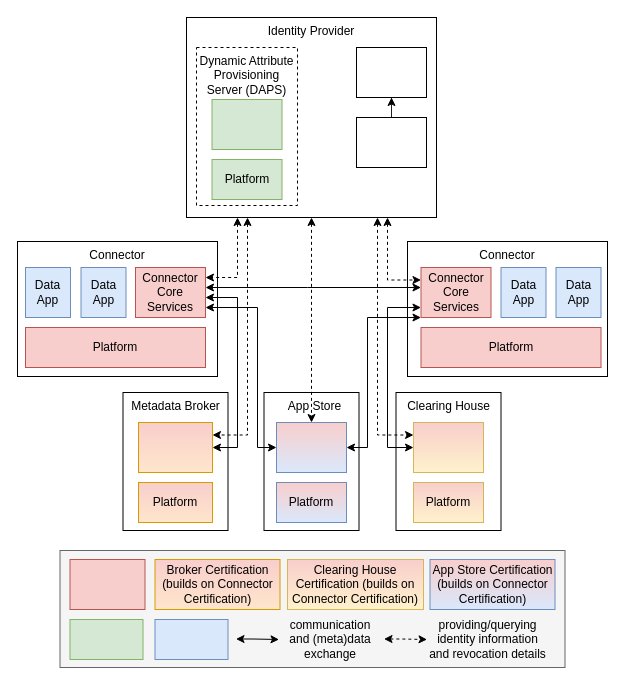
This 625x685 diagram has some shape labels left out. Here are the shapes that lost their labels. From the top down, the centre of each, then its label:
At point (391, 72): "OCSP Provider".
At point (246, 124): "DAPS Service".
At point (391, 142): "CA".
At point (175, 447): "Metadata Broker Services".
At point (311, 447): "App Store Service".
At point (448, 447): "Clearing House Service".
At point (107, 584): "Connector Certification".
At point (106, 639): "DAPS Certification".
At point (191, 639): "Data App Certification".
